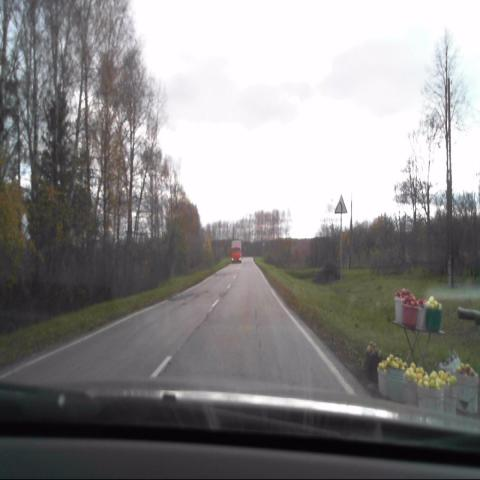1_11_1: (335, 194, 348, 215)
